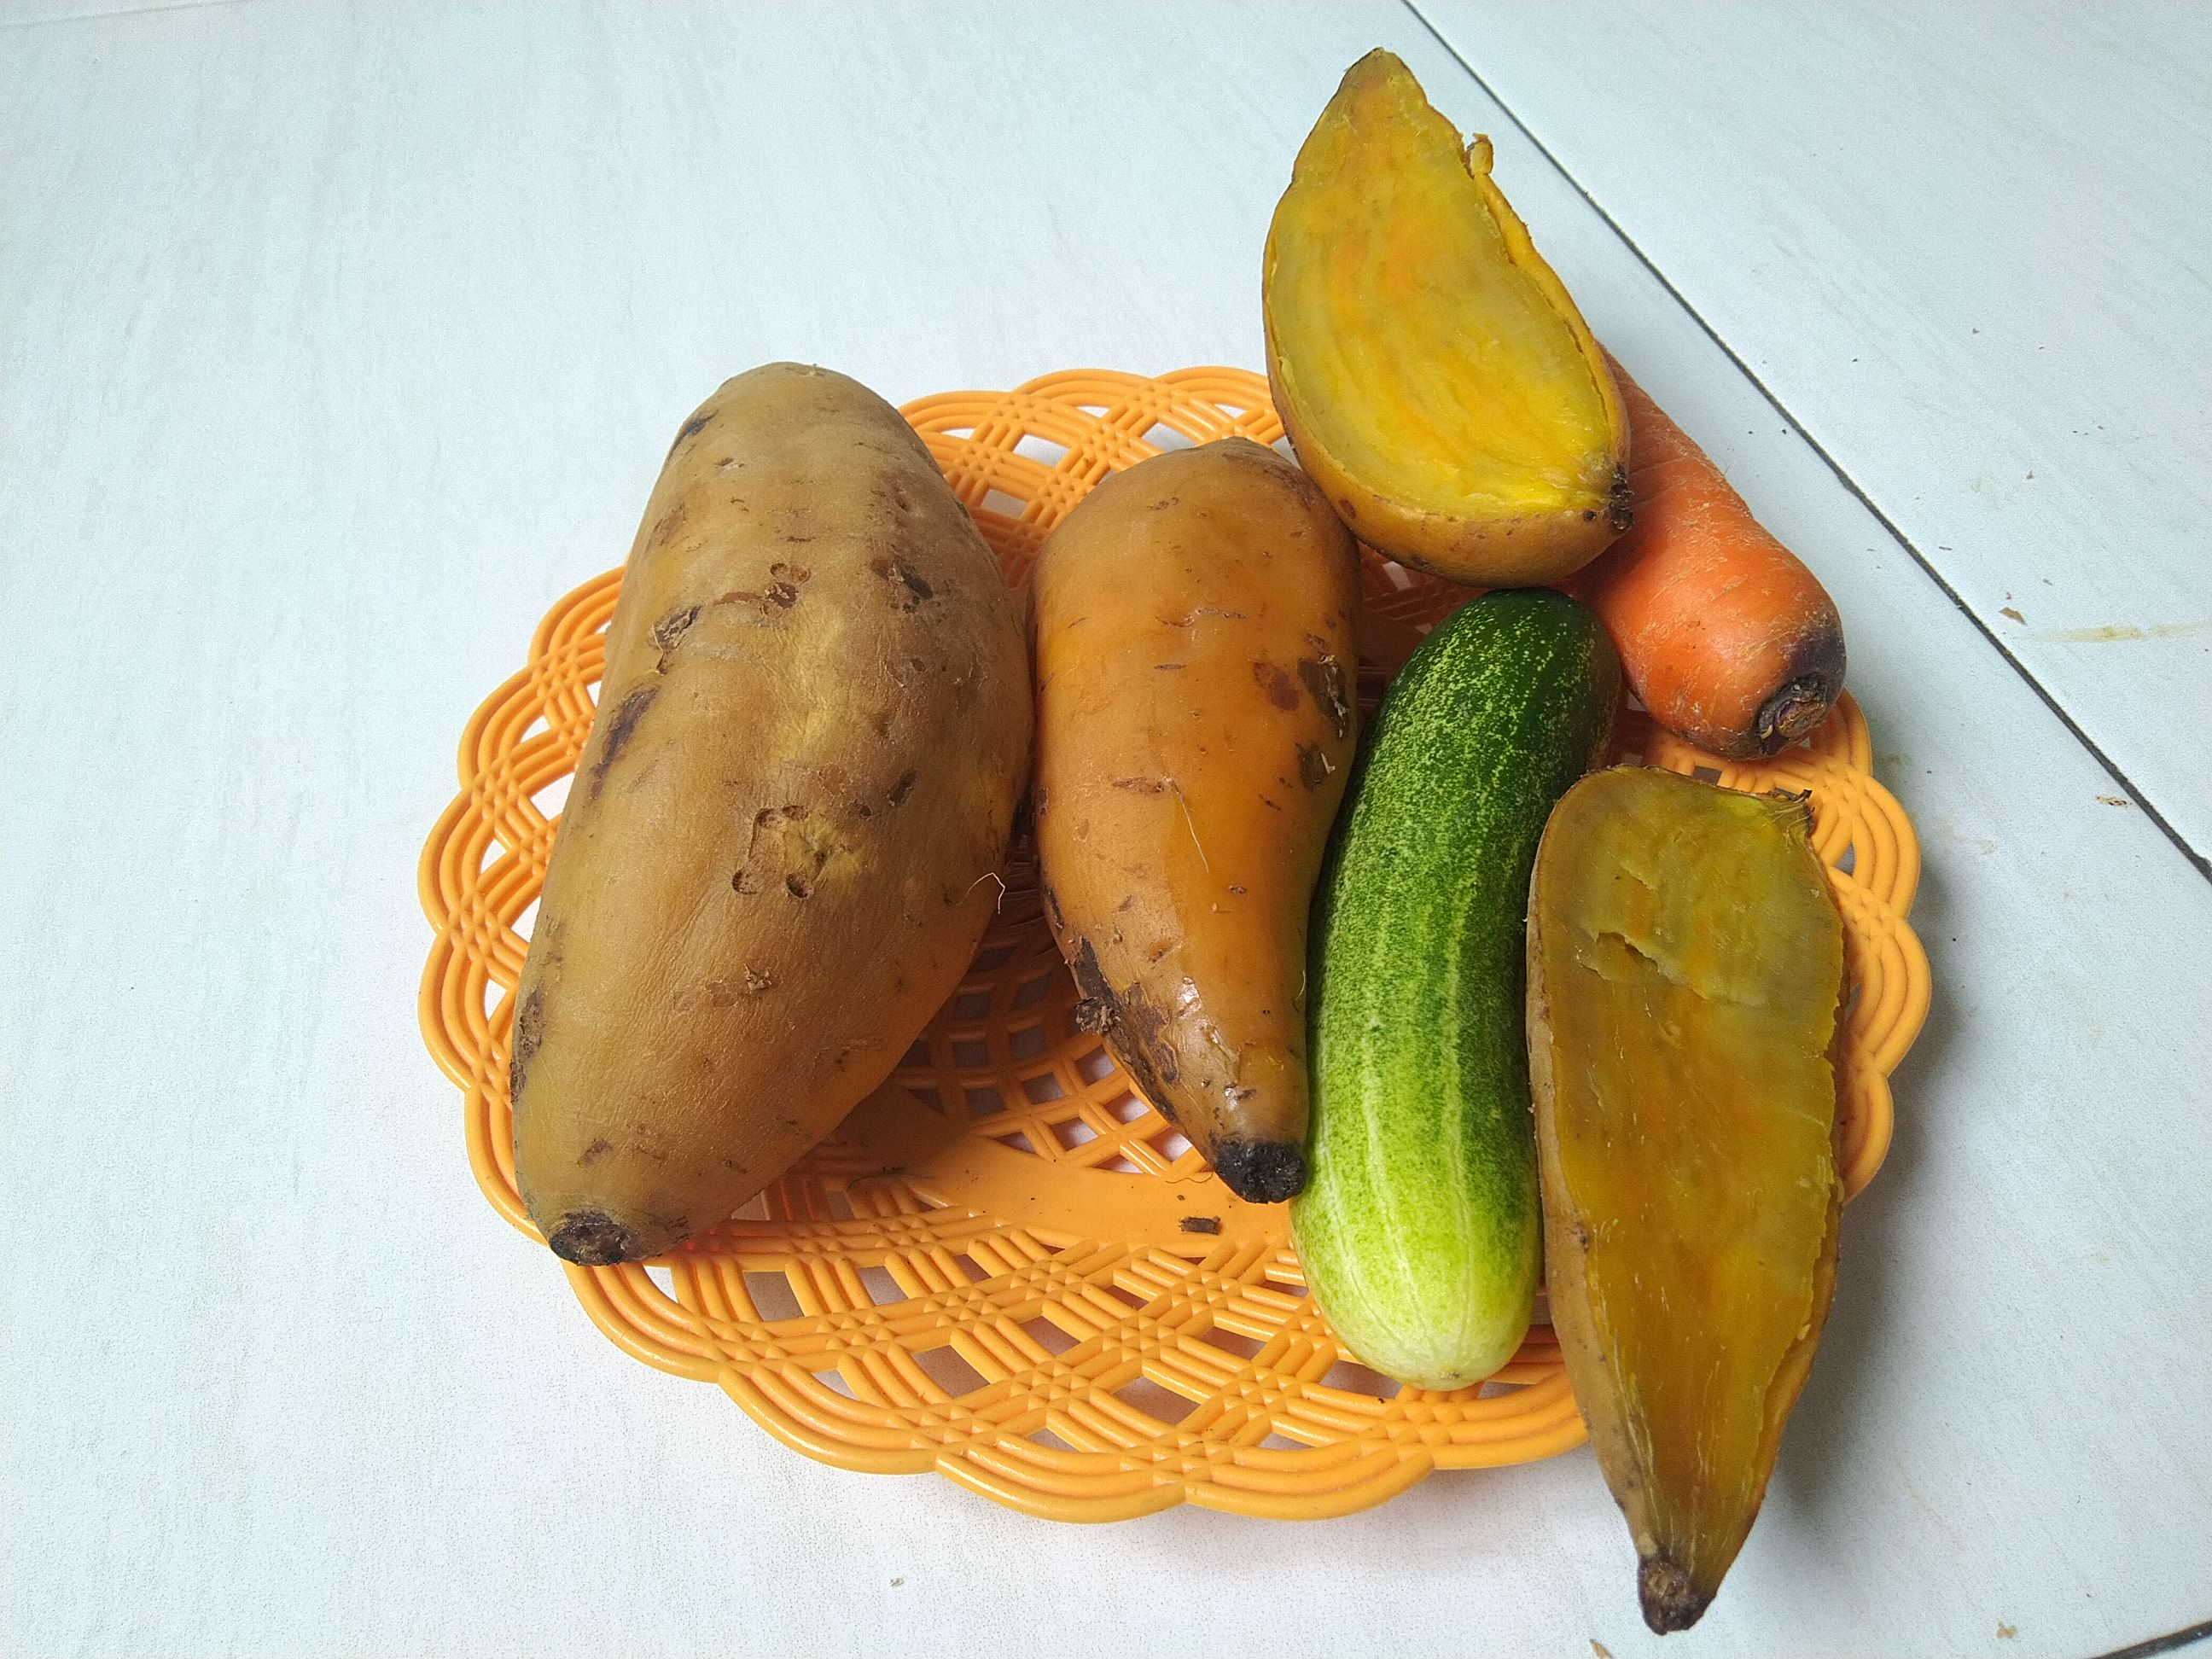ubi cilembu: (502, 347, 1012, 1291), (1536, 775, 1865, 1631), (1035, 403, 1317, 1204), (1259, 45, 1616, 586)
